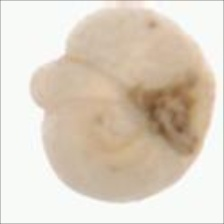L5: (27, 54, 145, 155), (125, 71, 206, 158)
L6: (27, 6, 216, 205)
